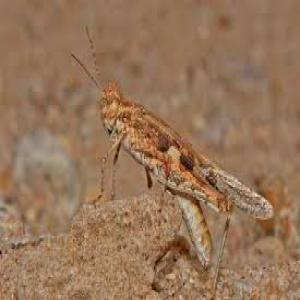locust: (79, 40, 272, 247)
